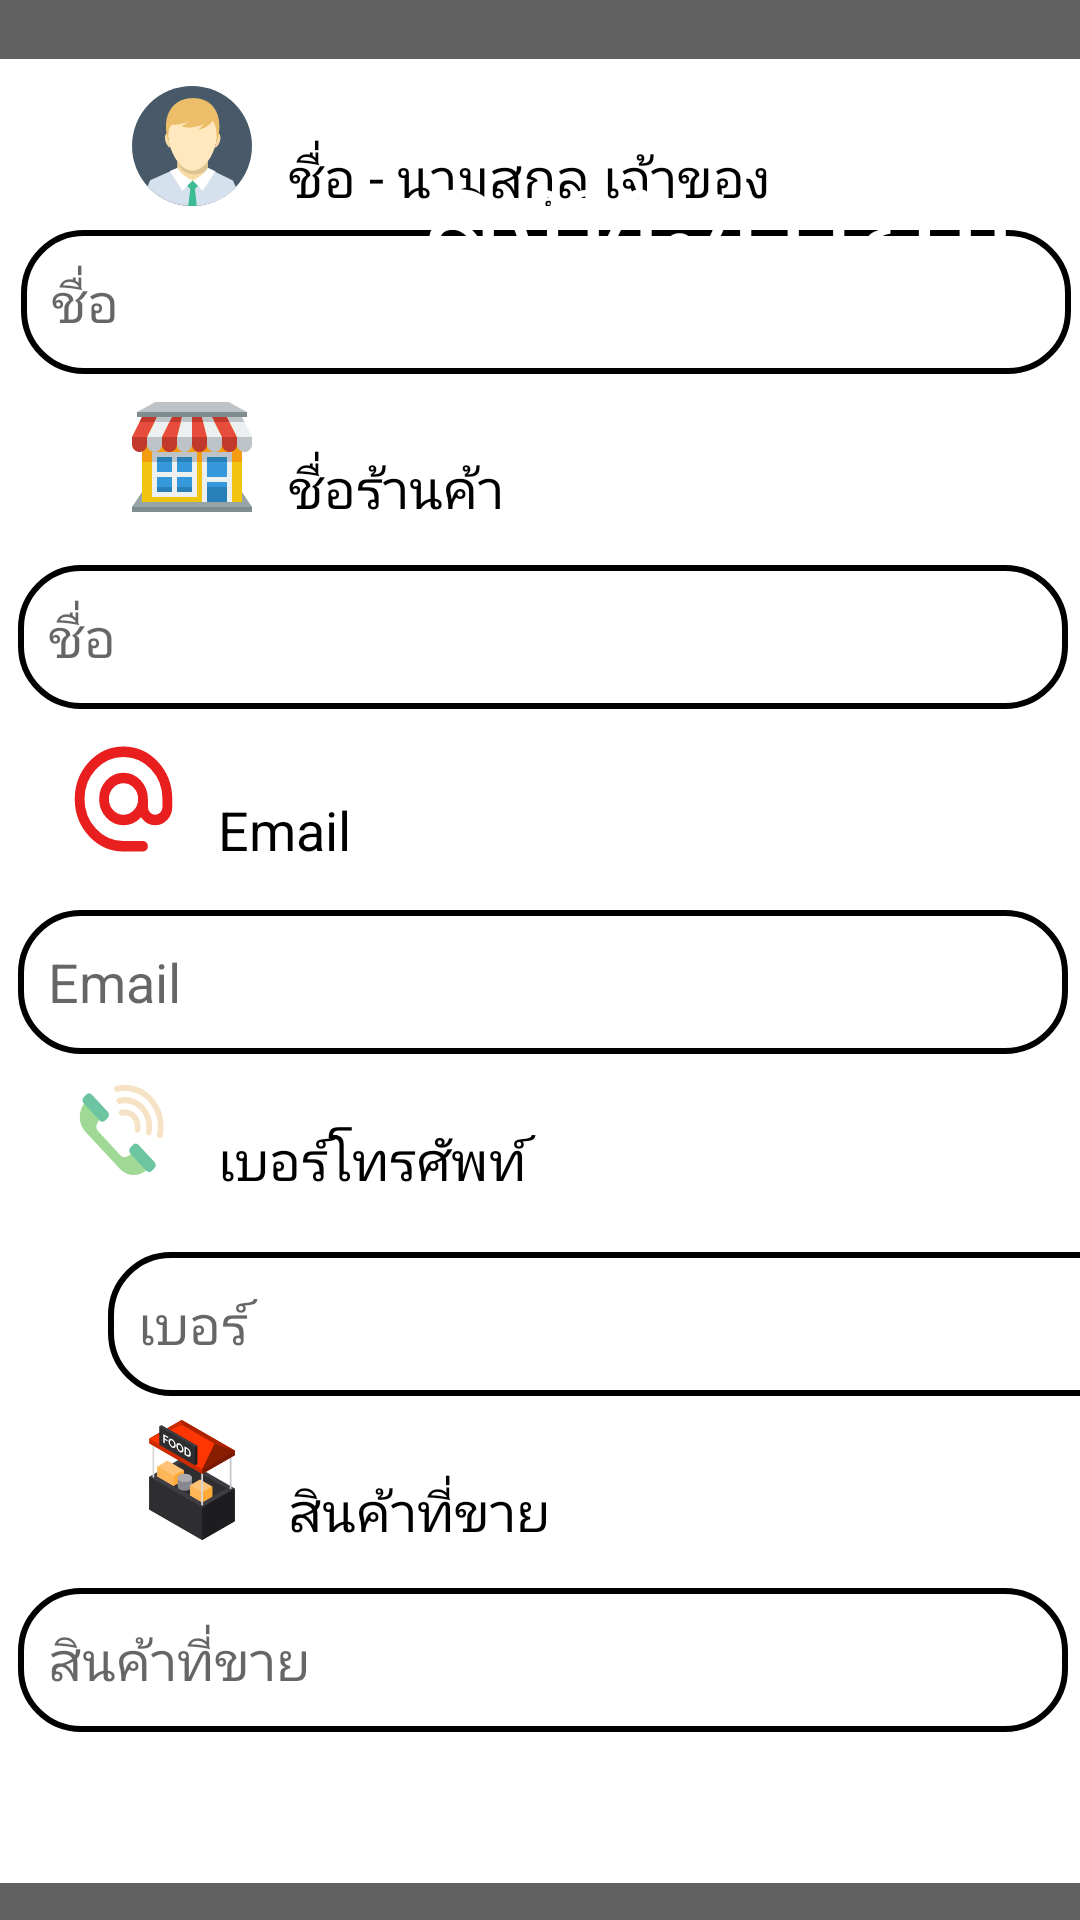

Screen size 1080×1920. Icon name, then its box in pixels as [x1, y1, x2, y2]:
food stall: [149, 1420, 235, 1540]
phone call telephone: [80, 1085, 164, 1175]
shop: [132, 402, 252, 512]
